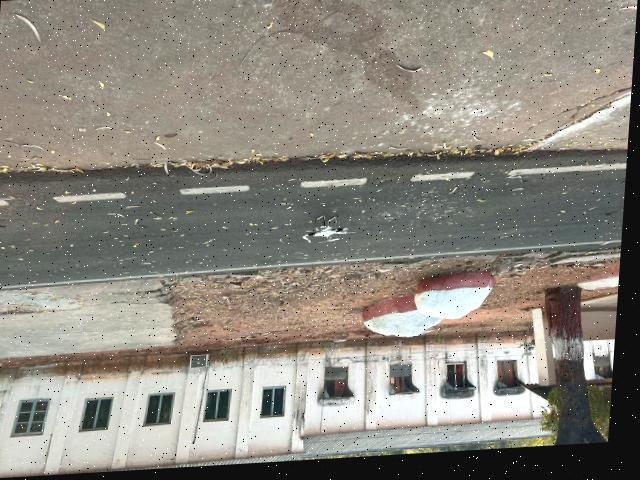drone: (274, 195, 382, 275)
